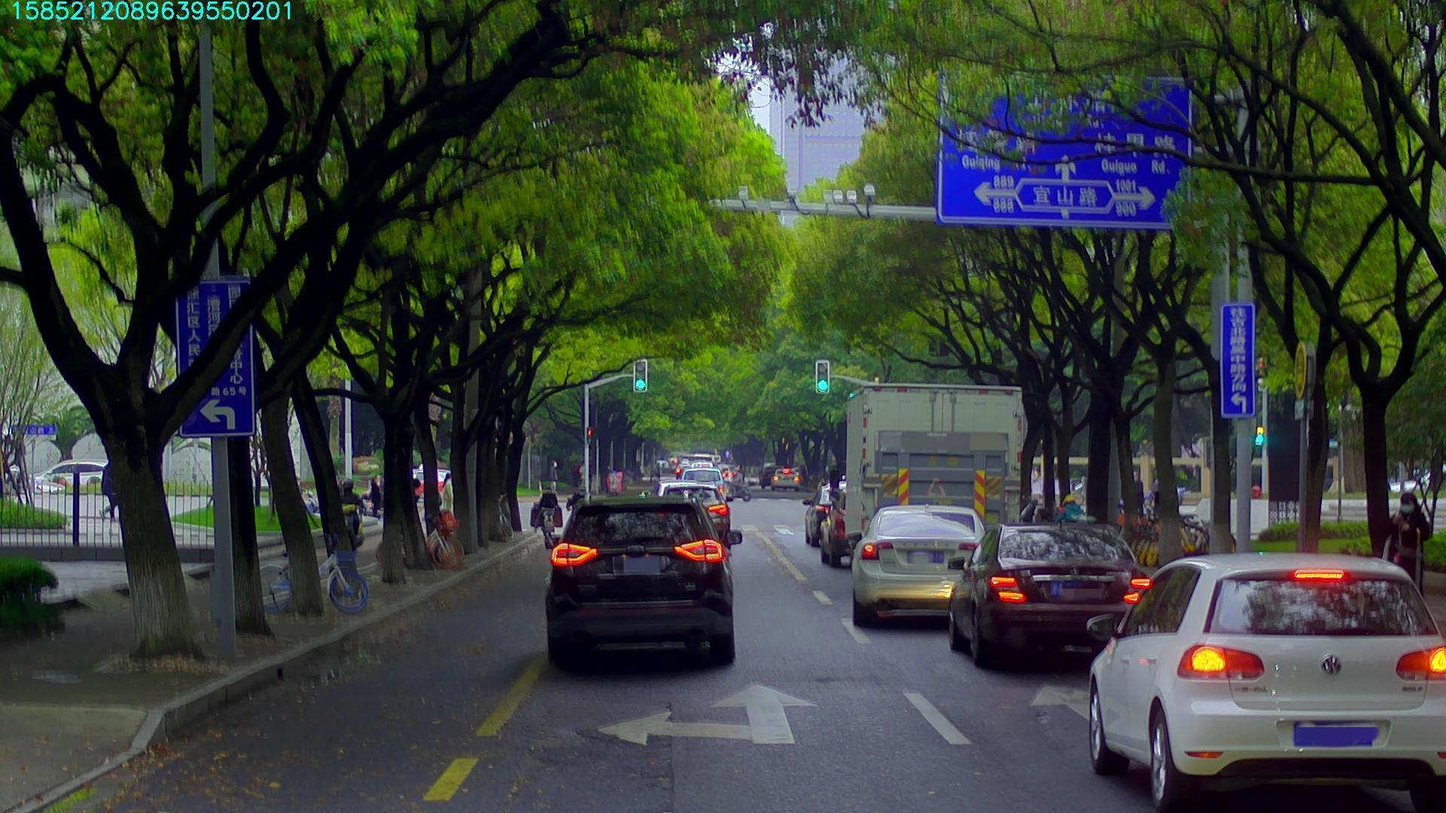green: (815, 360, 828, 392), (633, 360, 646, 391)
